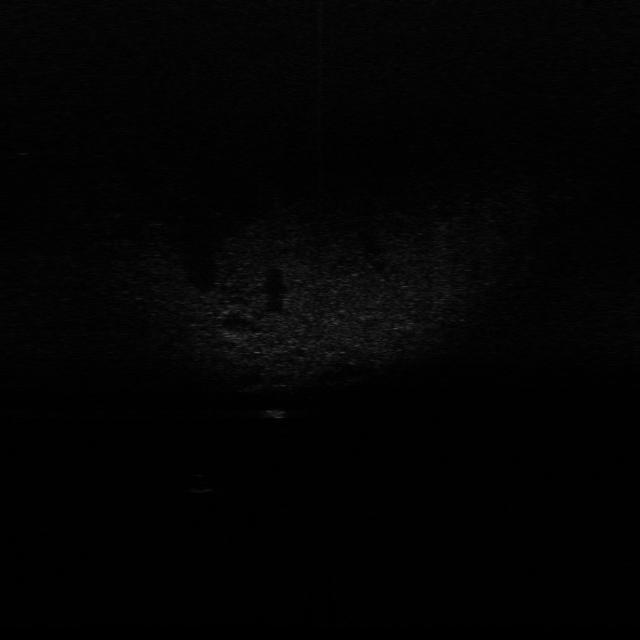ball: (177, 472, 221, 493)
cube: (259, 403, 292, 423)
